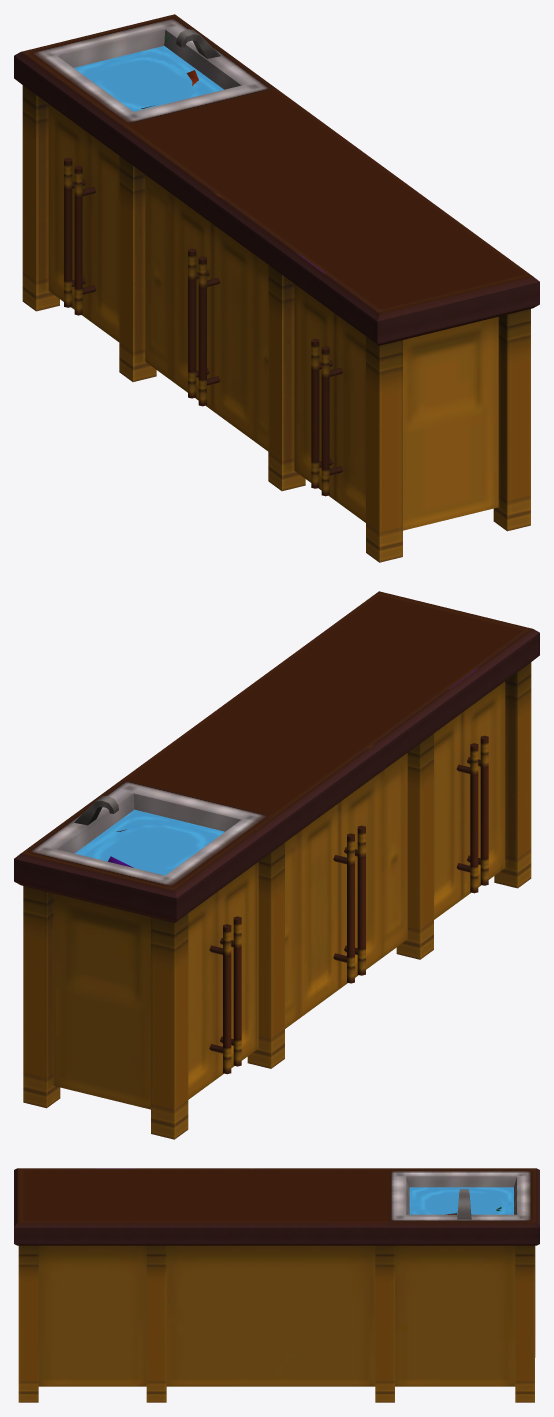
File: Kitchen_Cabinet_012.gltf
3 renders of one model, top to bottom at view 1: azimuth 30°, elevation 25°; view 2: azimuth 150°, elevation 25°; view 3: azimuth 270°, elevation 25°, orthographic. The views are drawn at different scales.
Visible parts, largest first — view 1: Kitchen_Cabinet_01; view 2: Kitchen_Cabinet_01; view 3: Kitchen_Cabinet_01.
Part boxes in pixels (x1,y1,x2,y2): Kitchen_Cabinet_01: [14, 14, 539, 562]; Kitchen_Cabinet_01: [14, 591, 539, 1139]; Kitchen_Cabinet_01: [14, 1168, 539, 1402].
Size of the model in its own units: 22.56 by 36.17 by 86.01.
1 material, 1 textured.
